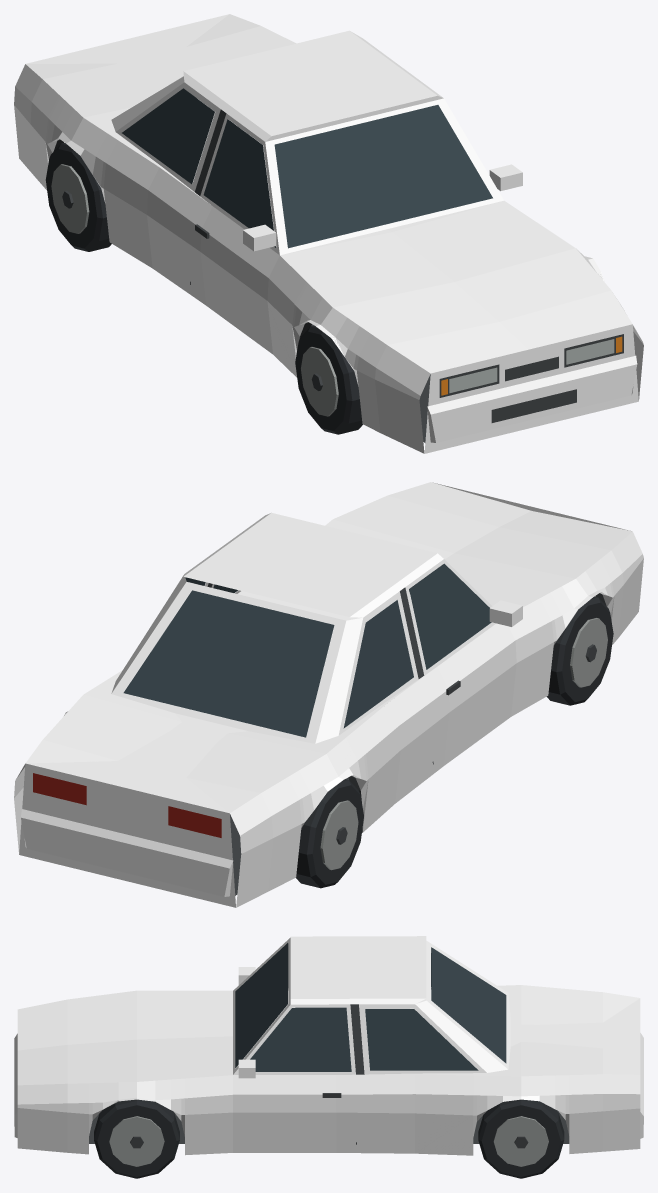
Rendered from hayase_yukikaze_96.glb.
3 views of the same model, one above another, from view 1: azimuth 30°, elevation 25°; view 2: azimuth 150°, elevation 25°; view 3: azimuth 270°, elevation 25° (orthographic). The views are drawn at different scales.
Parts seen in each view (by area): view 1: hayase_yukikaze_96; view 2: hayase_yukikaze_96; view 3: hayase_yukikaze_96.
Boxes of the visible parts, x1,y1,x2,y2 form: hayase_yukikaze_96: [14, 14, 643, 453]; hayase_yukikaze_96: [14, 482, 643, 907]; hayase_yukikaze_96: [14, 936, 643, 1178].
Size of the model in its own units: 1.74 by 1.27 by 4.44.
Materials: 8 (1 with a texture image).
